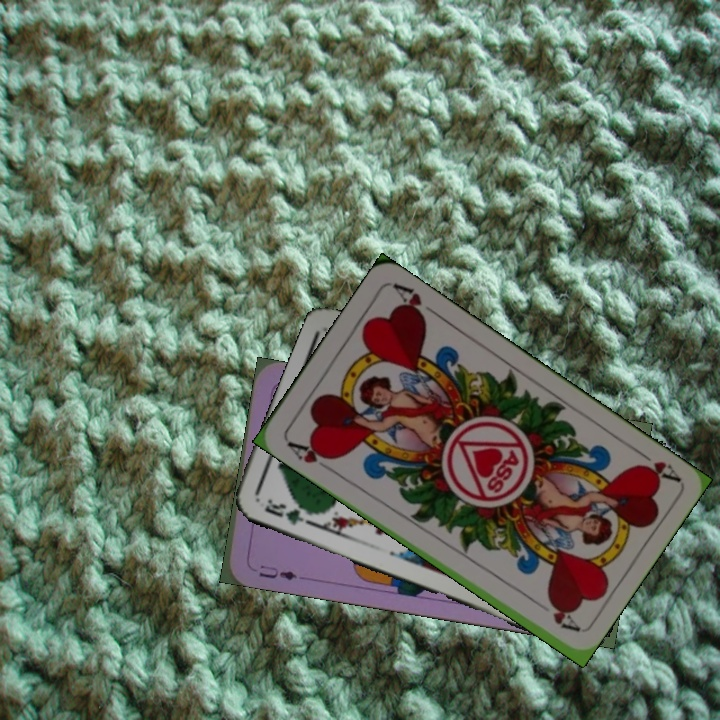EU: (255, 560, 300, 584)
GK: (260, 495, 317, 528)
HA: (629, 443, 682, 485), (282, 437, 338, 475)
